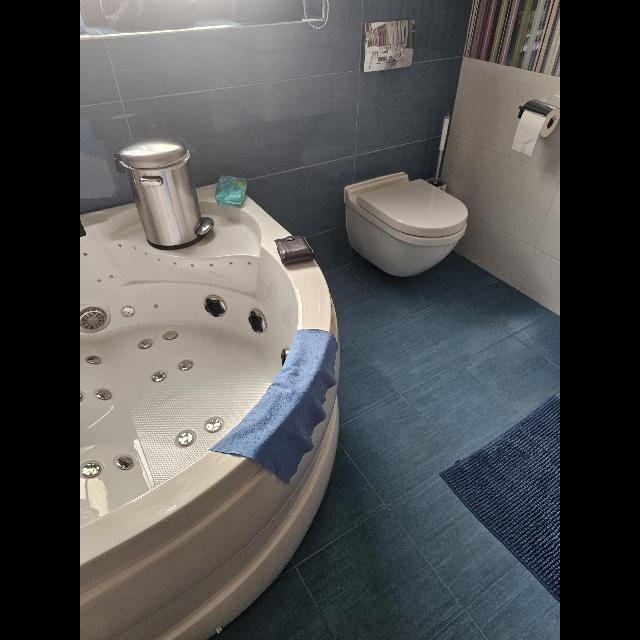Wallet: (274, 234, 314, 266)
